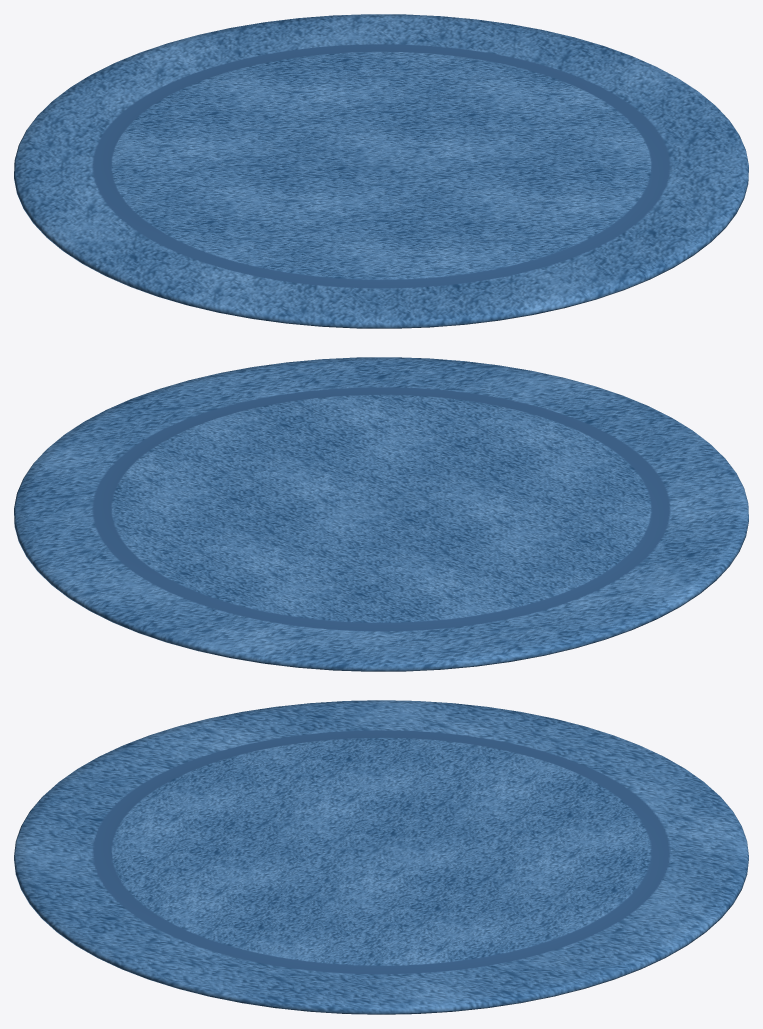
Rendered from rug.fbx.
The picture shows the model from 3 angles, top to bottom: view 1: azimuth 30°, elevation 25°; view 2: azimuth 150°, elevation 25°; view 3: azimuth 270°, elevation 25°; orthographic projection.
Visible parts, largest first — view 1: round carpet; view 2: round carpet; view 3: round carpet.
Boxes of the visible parts, x1=… form: round carpet: x1=14, y1=14, x2=748, y2=328; round carpet: x1=14, y1=357, x2=748, y2=671; round carpet: x1=14, y1=700, x2=748, y2=1014.
Size of the model in its own units: 194 by 2.99 by 194.
